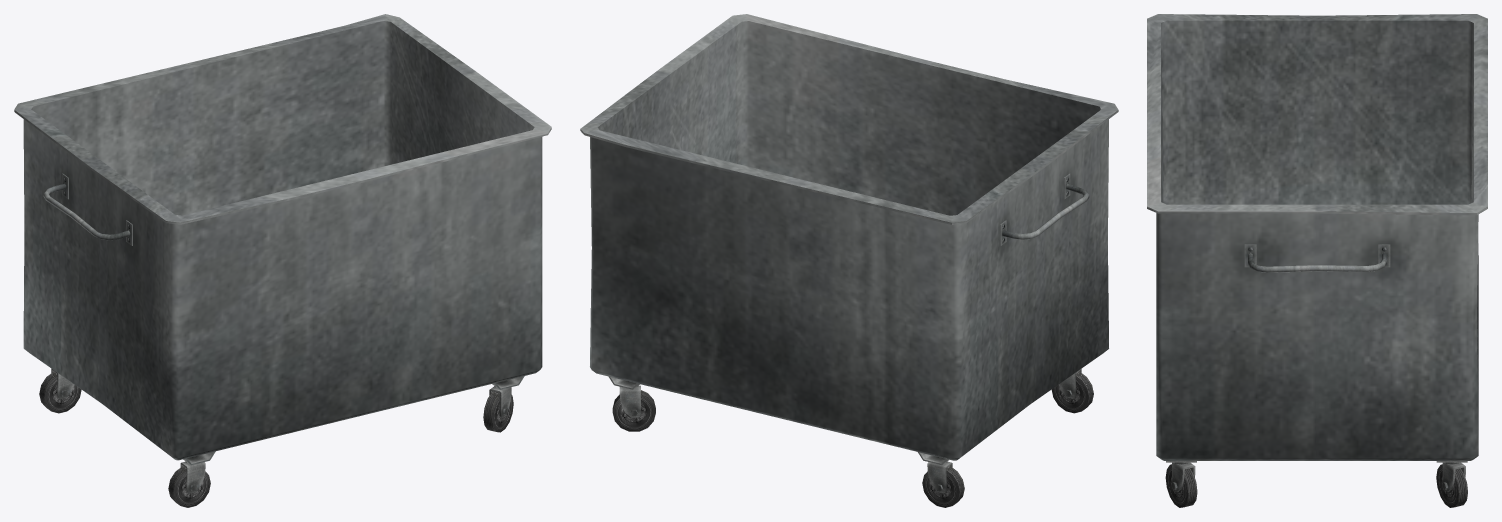
File: container_on_wheels.glb
3 renders of one model, left to right at view 1: azimuth 30°, elevation 25°; view 2: azimuth 150°, elevation 25°; view 3: azimuth 270°, elevation 25°, orthographic. The views are drawn at different scales.
Parts seen in each view (by area): view 1: AssetMesh_006; view 2: AssetMesh_006; view 3: AssetMesh_006.
Part boxes in pixels (left/top/right/bottom): AssetMesh_006: left=14, top=14, right=551, bottom=507; AssetMesh_006: left=580, top=14, right=1118, bottom=507; AssetMesh_006: left=1147, top=14, right=1487, bottom=507.
Size of the model in its own units: 0.7173 by 0.4838 by 0.474.
Materials: 12 (11 with a texture image).
